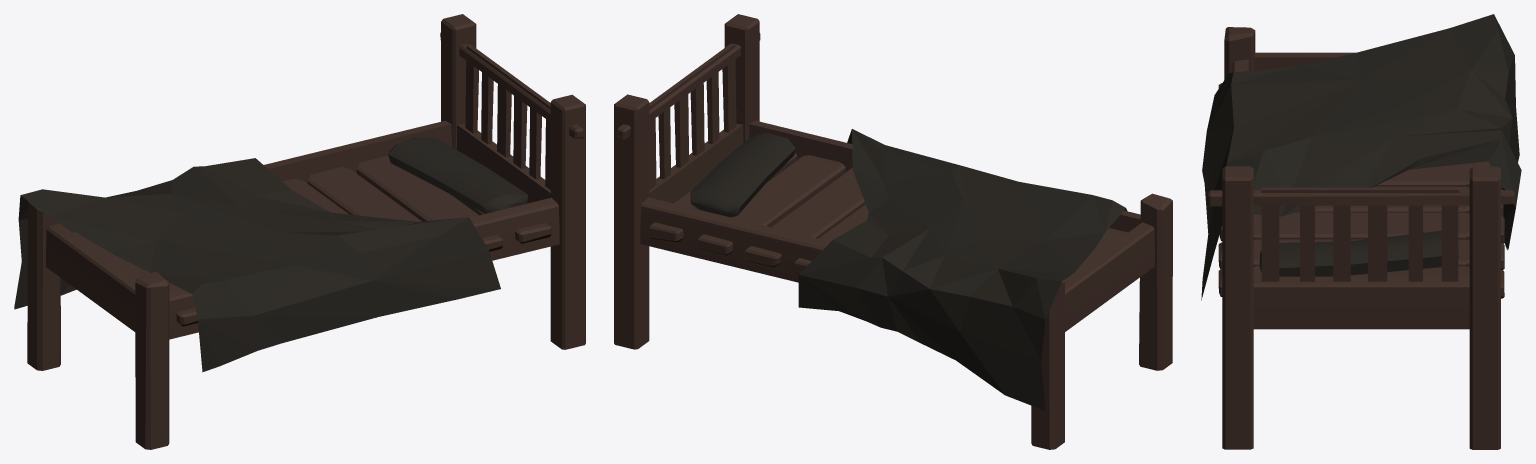
File: bed01.fbx
The picture shows the model from 3 angles, left to right: view 1: azimuth 30°, elevation 25°; view 2: azimuth 150°, elevation 25°; view 3: azimuth 270°, elevation 25°; orthographic projection. The views are drawn at different scales.
Parts seen in each view (by area): view 1: bedding, bedPosts, bedBottom, bed_planks, headboard, pillow, bedding1; view 2: bedding, bedPosts, bedBottom, bed_planks, headboard, pillow; view 3: bedding, bedPosts, bedBottom, headboard, bed_planks, pillow, bedding1.
Boxes of the visible parts, <box> form: bedding: <box>14,158,500,372</box>; bedPosts: <box>27,14,585,449</box>; bedBottom: <box>46,120,559,339</box>; bed_planks: <box>73,155,551,326</box>; headboard: <box>440,32,583,189</box>; pillow: <box>388,137,527,213</box>; bedding1: <box>14,196,76,309</box>; bedding: <box>798,129,1127,410</box>; bedPosts: <box>614,14,1172,449</box>; bedBottom: <box>640,120,1154,331</box>; bed_planks: <box>648,153,1127,273</box>; headboard: <box>617,33,760,190</box>; pillow: <box>690,133,796,217</box>; bedding: <box>1201,14,1521,300</box>; bedPosts: <box>1222,27,1500,449</box>; bedBottom: <box>1231,52,1490,329</box>; headboard: <box>1208,187,1515,281</box>; bed_planks: <box>1218,83,1504,298</box>; pillow: <box>1259,230,1458,276</box>; bedding1: <box>1503,189,1515,250</box>.
Bounding box in the file's own units: 47.06 × 24.3 × 25.99.
